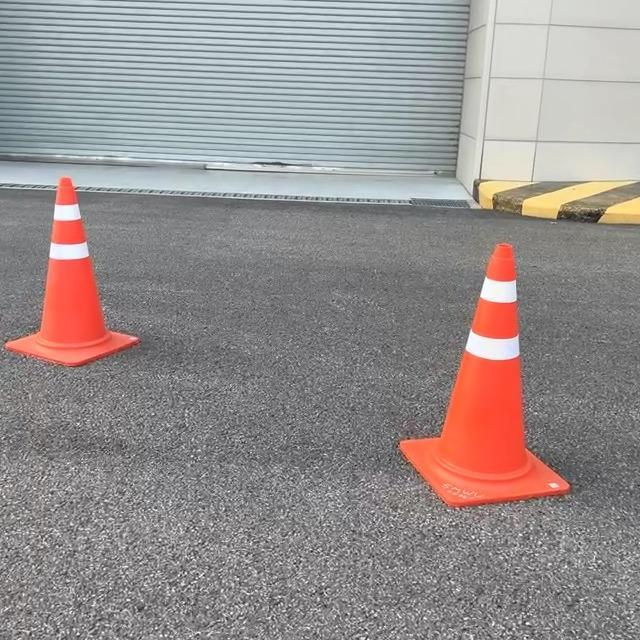fallen_object: (452, 210, 602, 516), (0, 127, 179, 347)
